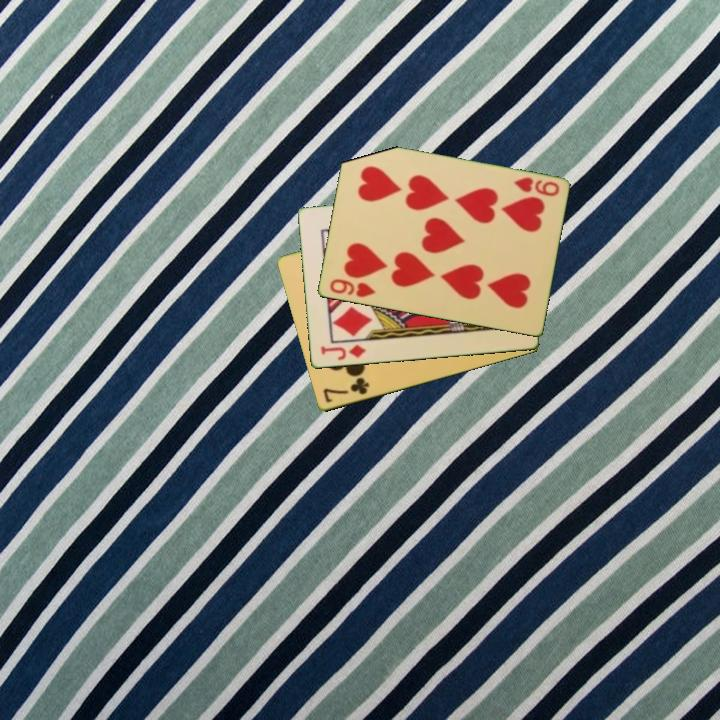7c: (319, 374, 372, 406)
9h: (326, 275, 378, 301), (510, 174, 562, 200)
Jd: (317, 341, 368, 363)
